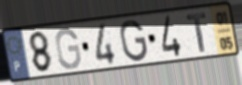4: (94, 21, 117, 67), (161, 14, 183, 58)
8: (28, 30, 54, 75)
G: (118, 18, 150, 63), (54, 27, 83, 71)
T: (184, 11, 208, 54)
